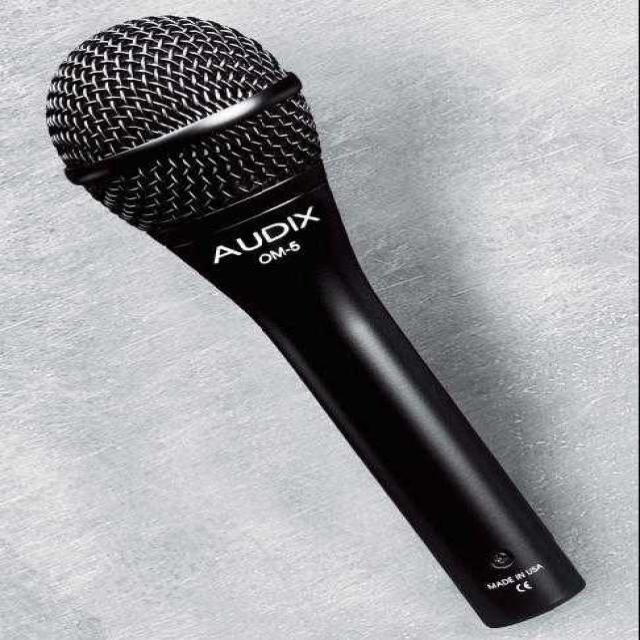microphone: (40, 6, 592, 626)
